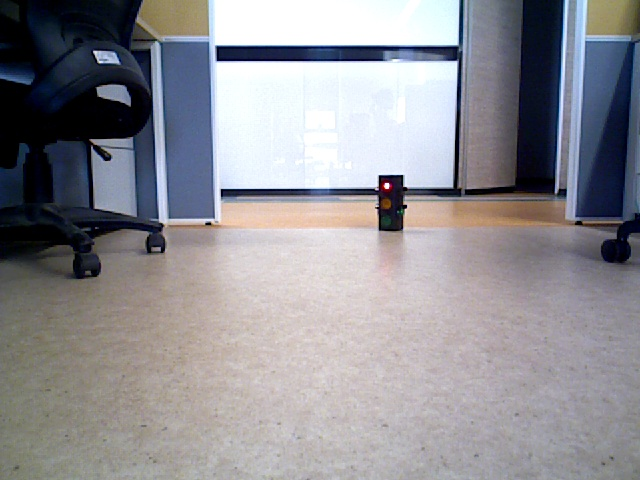red: (380, 175, 398, 228)
